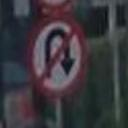NoVirarU: (23, 13, 91, 98)
